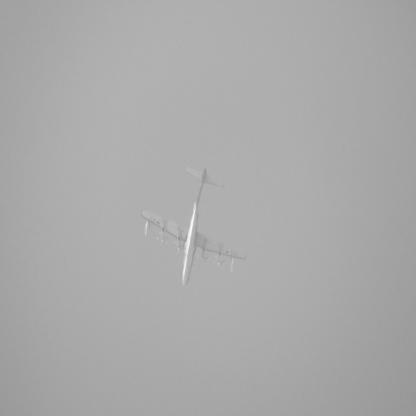US2: (142, 167, 248, 288)
